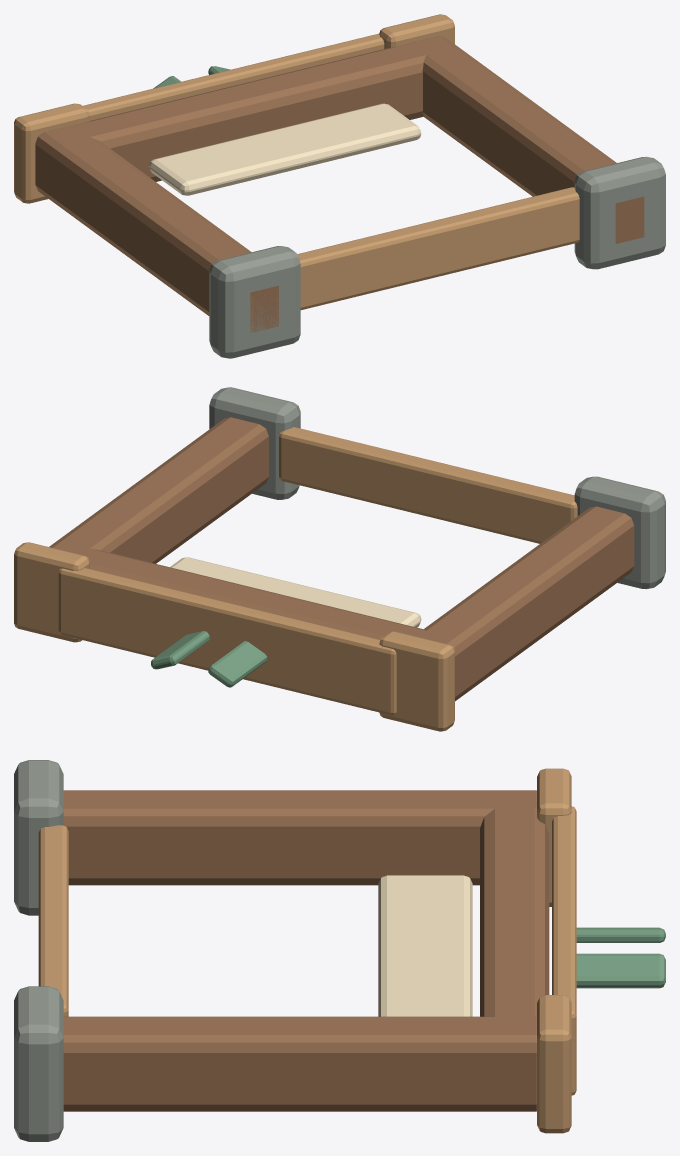
File: community-garden-gate.glb
3 renders of one model, top to bottom at view 1: azimuth 30°, elevation 25°; view 2: azimuth 150°, elevation 25°; view 3: azimuth 270°, elevation 25°, orthographic. The views are drawn at different scales.
Parts seen in each view (by area): view 1: gate header, gate post, threshold beam, gate post.001, garden sign board, stone foot, stone foot.001, header trim, post cap, post cap.001; view 2: header trim, gate post, threshold beam, gate post.001, gate header, post cap, stone foot, post cap.001, stone foot.001, garden sign board, painted leaf, painted leaf.001; view 3: gate post.001, gate post, gate header, garden sign board, stone foot.001, stone foot, threshold beam, header trim, post cap.001, painted leaf.001, post cap, painted leaf.
Part boxes in pixels (left/top/right/bottom): gate header: left=55, top=40, right=442, bottom=181; gate post: left=35, top=125, right=278, bottom=332; threshold beam: left=297, top=187, right=579, bottom=309; gate post.001: left=409, top=36, right=644, bottom=243; garden sign board: left=149, top=103, right=421, bottom=195; stone foot: left=209, top=246, right=300, bottom=358; stone foot.001: left=574, top=156, right=665, bottom=269; header trim: left=83, top=33, right=384, bottom=120; post cap: left=14, top=103, right=89, bottom=203; post cap.001: left=379, top=14, right=454, bottom=48; header trim: left=58, top=568, right=396, bottom=715; gate post: left=418, top=506, right=634, bottom=701; threshold beam: left=279, top=427, right=577, bottom=543; gate post.001: left=49, top=417, right=268, bottom=563; gate header: left=81, top=548, right=444, bottom=641; post cap: left=379, top=631, right=454, bottom=731; stone foot: left=574, top=476, right=665, bottom=589; post cap.001: left=14, top=542, right=89, bottom=642; stone foot.001: left=209, top=387, right=300, bottom=499; garden sign board: left=170, top=557, right=421, bottom=627; painted leaf: left=208, top=641, right=267, bottom=687; painted leaf.001: left=151, top=631, right=209, bottom=669; gate post.001: left=63, top=1016, right=536, bottom=1111; gate post: left=63, top=790, right=536, bottom=885; gate header: left=480, top=796, right=549, bottom=1028; garden sign board: left=378, top=875, right=472, bottom=1016; stone foot.001: left=14, top=986, right=63, bottom=1141; stone foot: left=14, top=760, right=63, bottom=915; threshold beam: left=38, top=825, right=68, bottom=1016; header trim: left=552, top=806, right=576, bottom=1095; post cap.001: left=537, top=995, right=571, bottom=1133; painted leaf.001: left=576, top=953, right=665, bottom=988; post cap: left=537, top=768, right=571, bottom=906; painted leaf: left=576, top=927, right=665, bottom=942.
Size of the model in its own units: 2.64 by 0.52 by 2.63.
